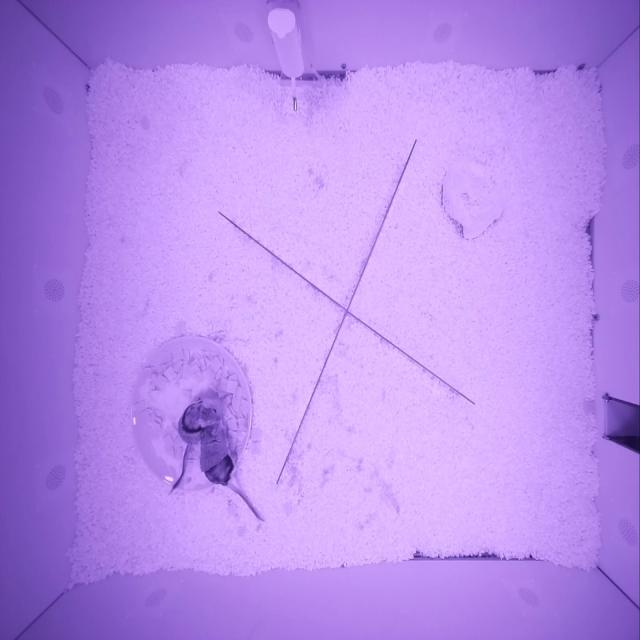adult_back: (200, 421, 237, 486)
adult_front: (177, 402, 222, 444)
